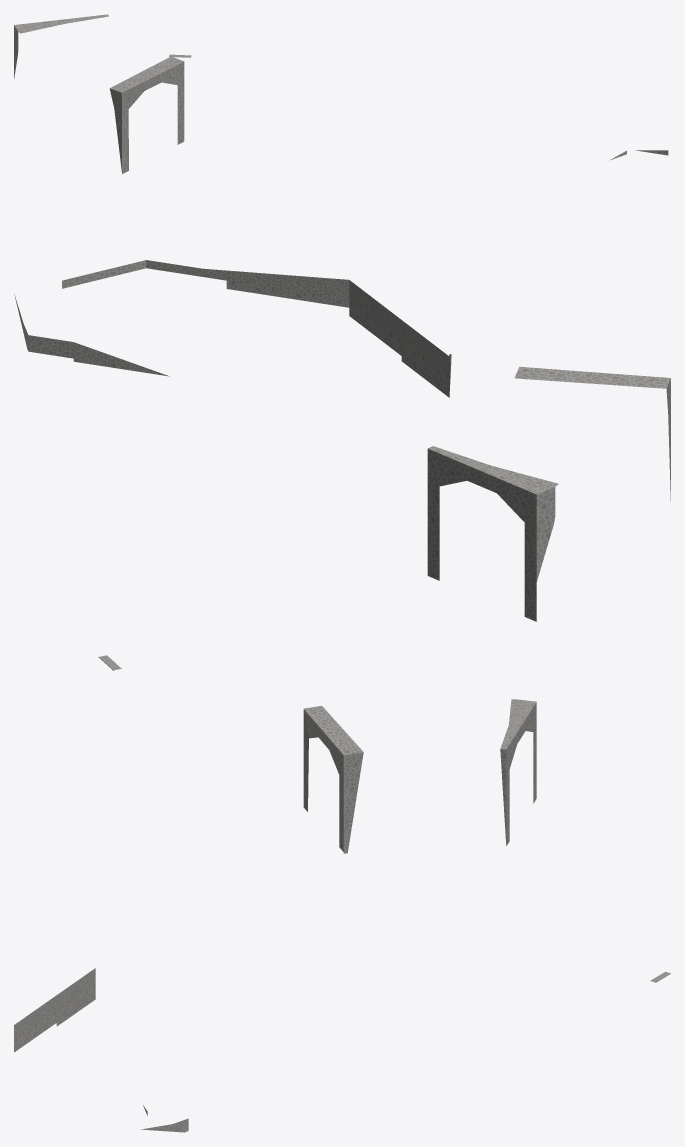
The model's file is kd_stage_13612f_4_21_bounded.glb.
The picture shows the model from 3 angles, top to bottom: view 1: azimuth 30°, elevation 25°; view 2: azimuth 150°, elevation 25°; view 3: azimuth 270°, elevation 25°; orthographic projection. The views are drawn at different scales.
Visible parts, largest first — view 1: kd_stage_13612f_4_21_bounded; view 2: kd_stage_13612f_4_21_bounded; view 3: kd_stage_13612f_4_21_bounded.
Boxes of the visible parts, x1,y1,x2,y2 form: kd_stage_13612f_4_21_bounded: (14,14,668,173); kd_stage_13612f_4_21_bounded: (14,260,670,670); kd_stage_13612f_4_21_bounded: (14,699,670,1132).
Bounding box in the file's own units: 79.73 × 20 × 75.46.
Materials: 1 (1 with a texture image).
